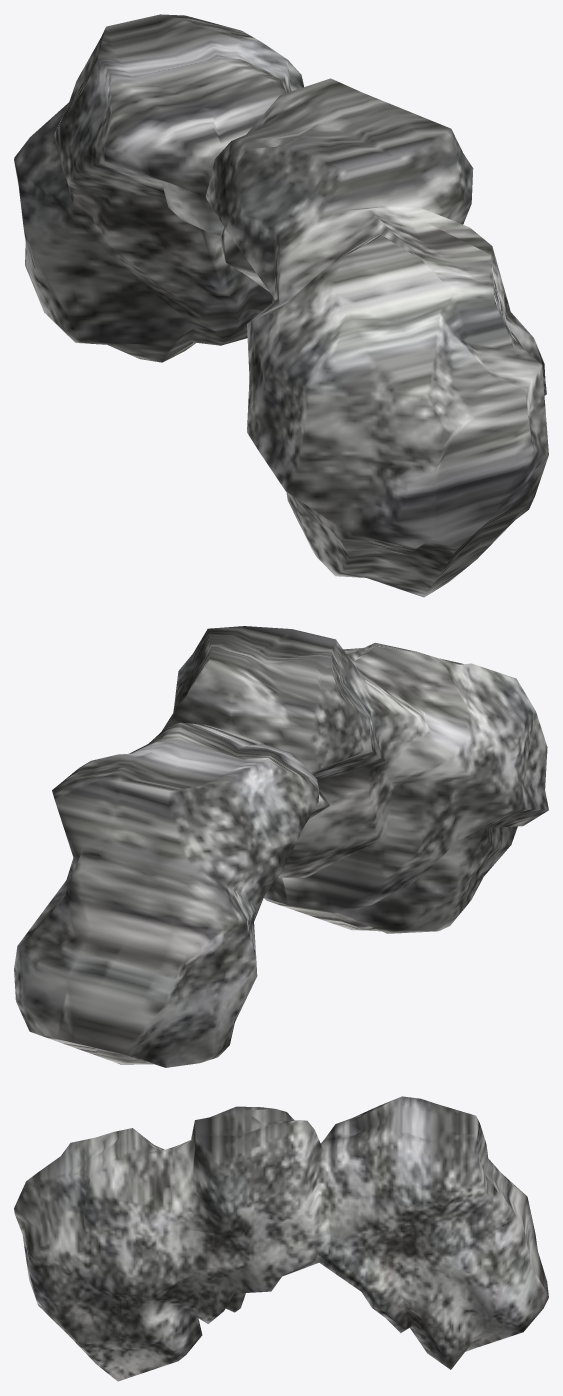
File: Rock_6.dae
3 renders of one model, top to bottom at view 1: azimuth 30°, elevation 25°; view 2: azimuth 150°, elevation 25°; view 3: azimuth 270°, elevation 25°, orthographic. The views are drawn at different scales.
Visible parts, largest first — view 1: Rock_6; view 2: Rock_6; view 3: Rock_6.
Part boxes in pixels (x1,y1,x2,y2): Rock_6: (14,14,548,597); Rock_6: (14,626,548,1067); Rock_6: (14,1096,548,1381).
Size of the model in its own units: 3.03 by 7.1 by 3.81.
